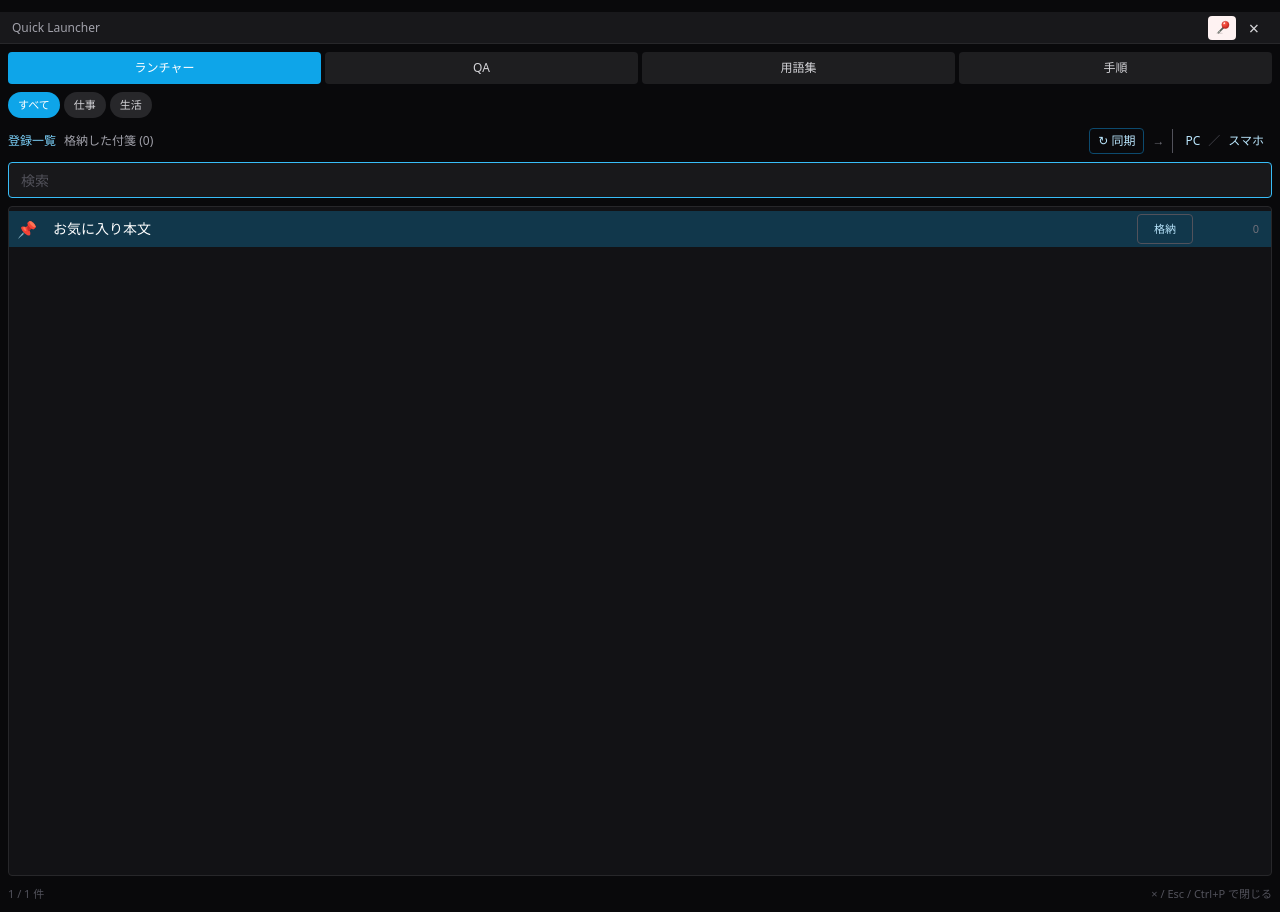
launcher storage buttons › reports a save failure and leaves the favorite accessible
Click the button with aria-label "お気に入り本文を格納" at coordinates (1165, 229), box [1137, 214, 1193, 244]
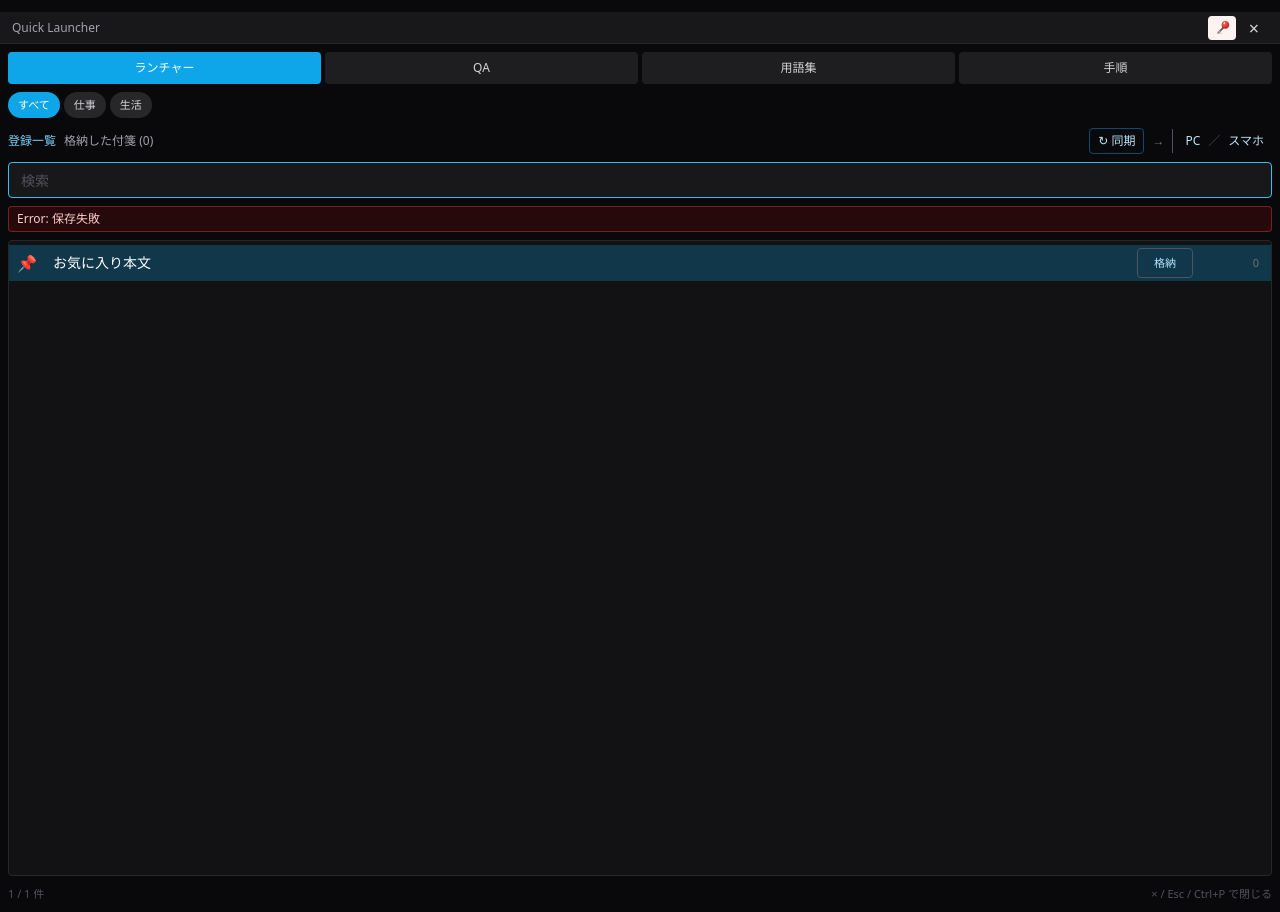
Expected: the button with aria-label "お気に入り本文を格納" is shown, [1137, 248, 1193, 278]
Now the text "Error: 保存失敗" is shown, box [8, 206, 1272, 232]
